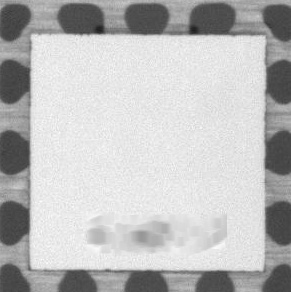DIE_INK: (83, 211, 230, 259)
